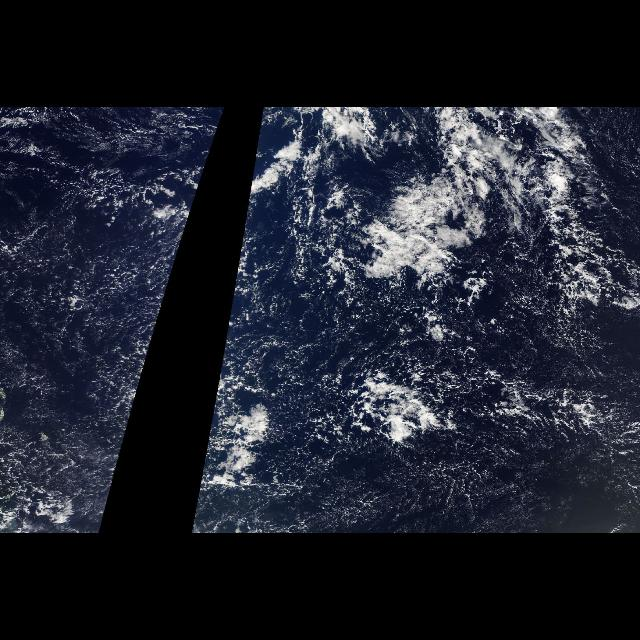Gravel: (208, 118, 636, 528), (22, 236, 178, 370)
Sugar: (192, 242, 588, 524), (5, 110, 185, 524)
